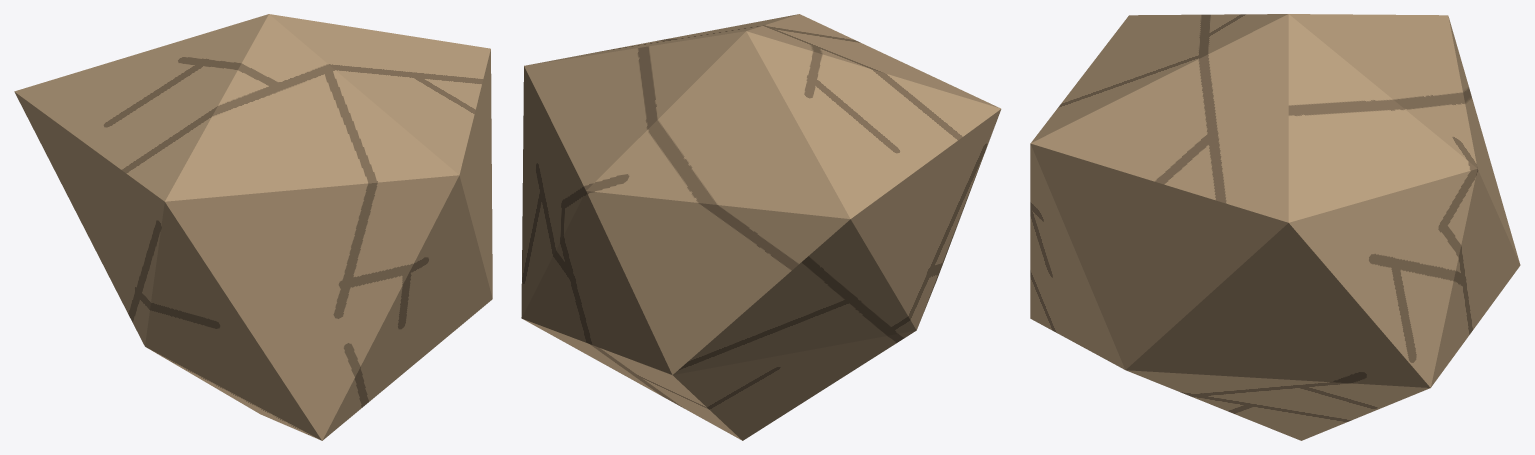
The model's file is rock(shatter).fbx.
3 views of the same model, side by side, from view 1: azimuth 30°, elevation 25°; view 2: azimuth 150°, elevation 25°; view 3: azimuth 270°, elevation 25° (orthographic). The views are drawn at different scales.
Parts seen in each view (by area): view 1: rock(normal).008; view 2: rock(normal).008; view 3: rock(normal).008.
Boxes of the visible parts, x1=… form: rock(normal).008: x1=14, y1=14, x2=492, y2=440; rock(normal).008: x1=521, y1=14, x2=1001, y2=440; rock(normal).008: x1=1030, y1=14, x2=1520, y2=440.
Bounding box in the file's own units: 26.37 × 25.37 × 26.3.
Materials: 1 (1 with a texture image).
